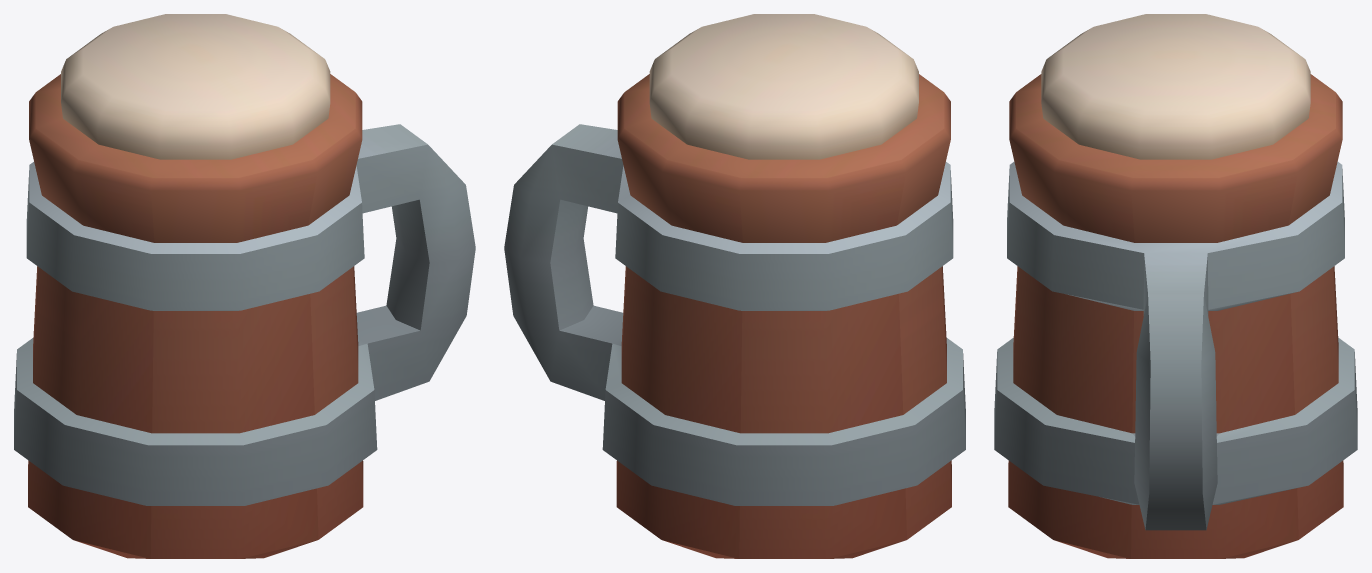
The model's file is mug-full.glb.
The picture shows the model from 3 angles, left to right: view 1: azimuth 30°, elevation 25°; view 2: azimuth 150°, elevation 25°; view 3: azimuth 270°, elevation 25°; orthographic projection.
Parts seen in each view (by area): view 1: mug_full; view 2: mug_full; view 3: mug_full.
Boxes of the visible parts, x1,y1,x2,y2 form: mug_full: (14,14,475,558); mug_full: (504,14,965,558); mug_full: (994,14,1357,558).
Size of the model in its own units: 0.5342 by 0.5484 by 0.3959.
1 material, 1 textured.
